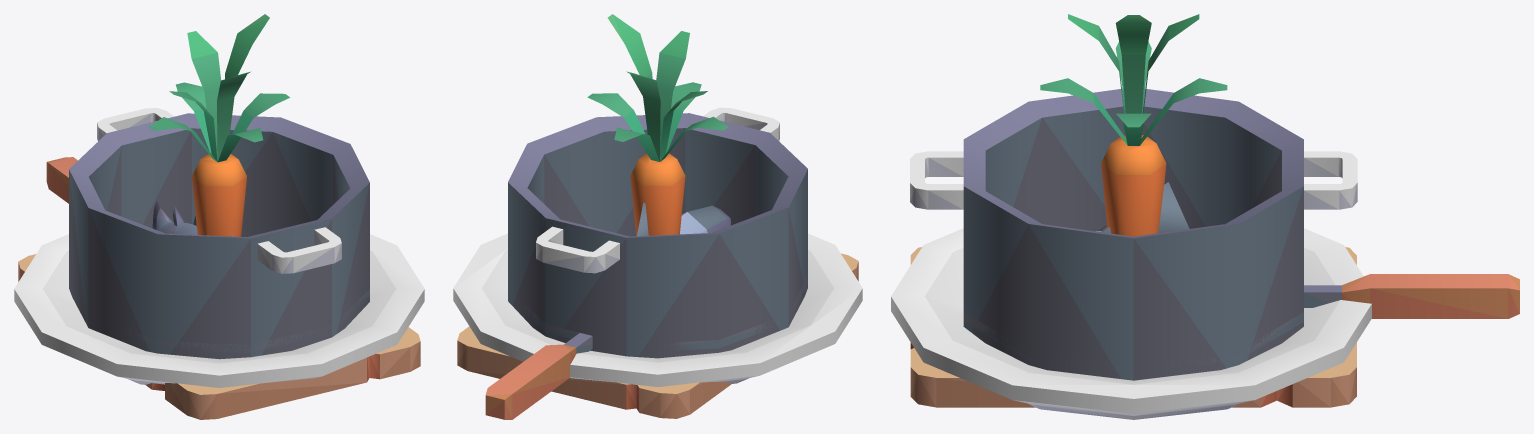
File: kenney-food.glb
3 views of the same model, side by side, from view 1: azimuth 30°, elevation 25°; view 2: azimuth 150°, elevation 25°; view 3: azimuth 270°, elevation 25° (orthographic). The views are drawn at different scales.
Visible parts, largest first — view 1: pot, plate, carrot, cutting-board, frying-pan, fish; view 2: pot, plate, carrot, cutting-board, frying-pan, fish; view 3: pot, plate, carrot, frying-pan, cutting-board, fish.
Part boxes in pixels (x1=…): pot: x1=69, y1=108, x2=369, y2=359; plate: x1=14, y1=234, x2=424, y2=387; carrot: x1=149, y1=14, x2=289, y2=236; cutting-board: x1=18, y1=254, x2=420, y2=419; frying-pan: x1=46, y1=157, x2=369, y2=352; fish: x1=152, y1=200, x2=234, y2=236; pot: x1=508, y1=107, x2=807, y2=358; plate: x1=453, y1=233, x2=862, y2=386; carrot: x1=587, y1=14, x2=728, y2=235; cutting-board: x1=457, y1=253, x2=858, y2=418; frying-pan: x1=485, y1=276, x2=807, y2=419; fish: x1=637, y1=202, x2=730, y2=236; pot: x1=910, y1=89, x2=1357, y2=380; plate: x1=891, y1=228, x2=1371, y2=419; carrot: x1=1040, y1=14, x2=1227, y2=236; frying-pan: x1=963, y1=274, x2=1519, y2=372; cutting-board: x1=910, y1=247, x2=1356, y2=407; fish: x1=1096, y1=182, x2=1189, y2=233.
Bounding box in the file's own units: 0.8918 × 0.7163 × 1.16.
